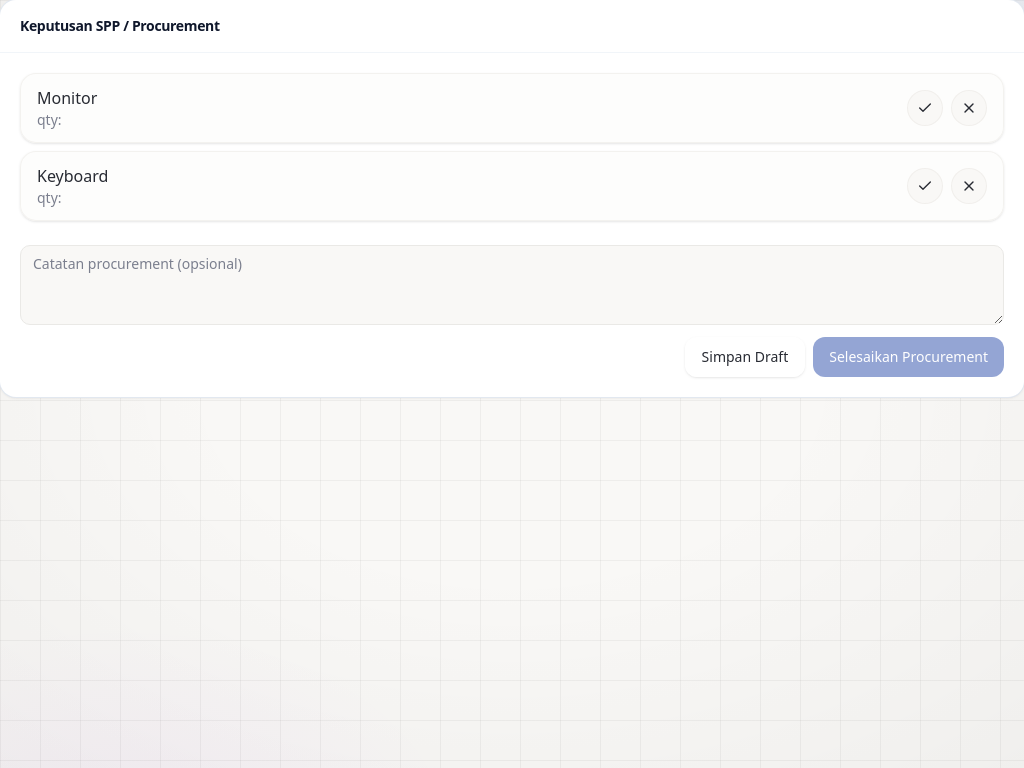
Test: <ProcurementPanel> › enables Selesaikan after all items decided
The width and height of the screenshot is (1024, 768).
Click the button named "approve" in the row of "Monitor": (925, 108) x1=907 y1=90 x2=943 y2=126
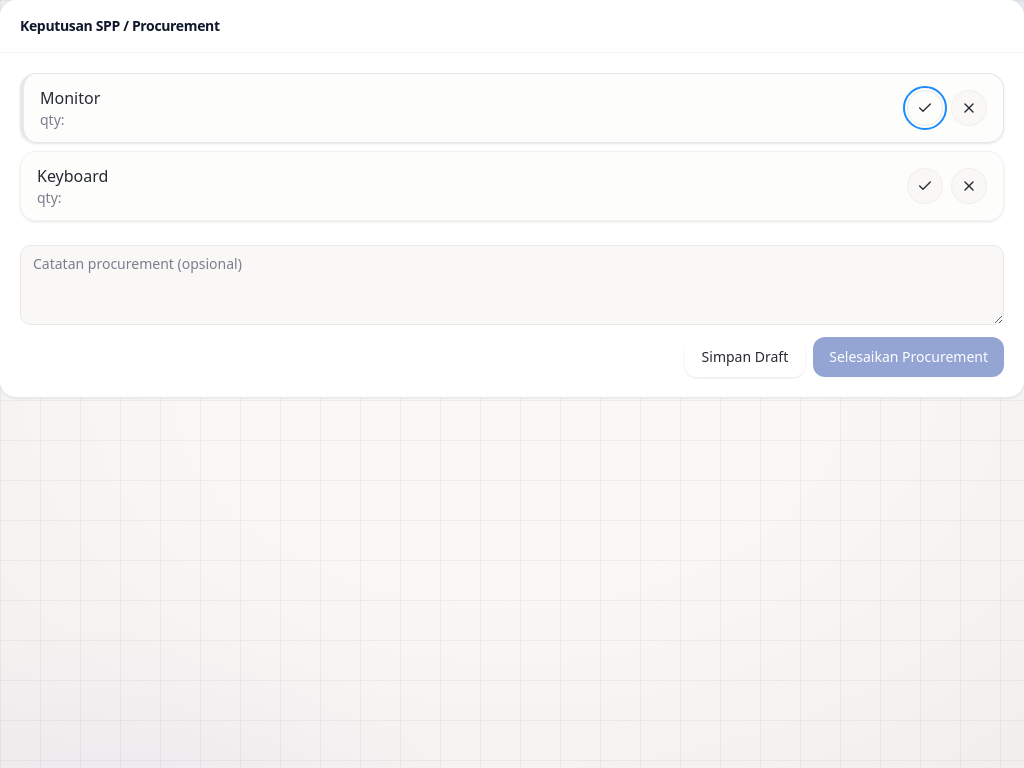
Click the button named "approve" in the row of "Keyboard": (925, 186) x1=907 y1=168 x2=943 y2=204
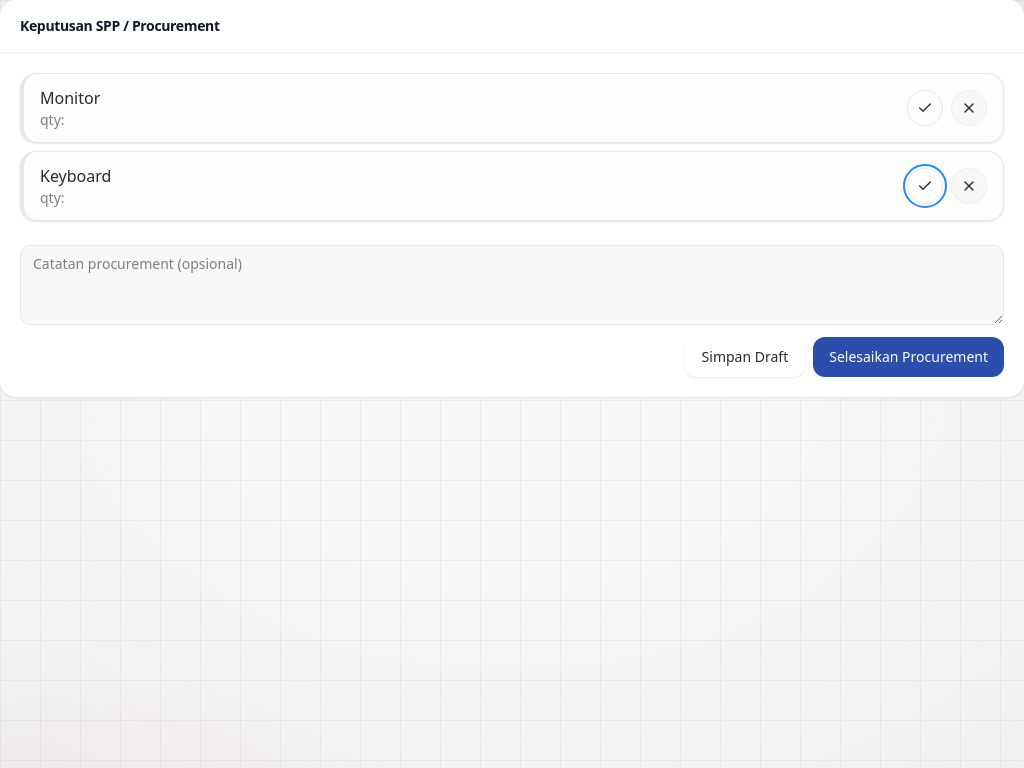
expect the button "Selesaikan Procurement" is enabled: met, box x1=813 y1=337 x2=1004 y2=377
